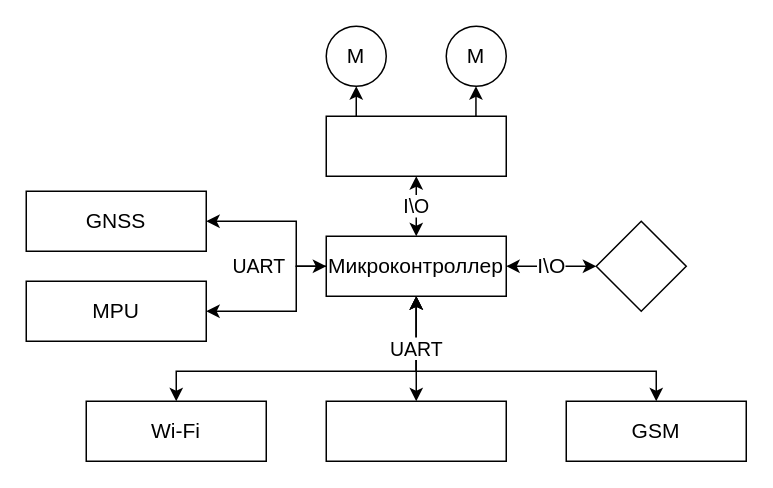
This 773x488 diagram has some shape labels left out. The shapes that lost their labels are listed below. From the top down, each one's centre as x and y in pixels, then its label:
(415,145): Драйвер моторов
(640,265): Master link
(415,430): Радиомодуль
